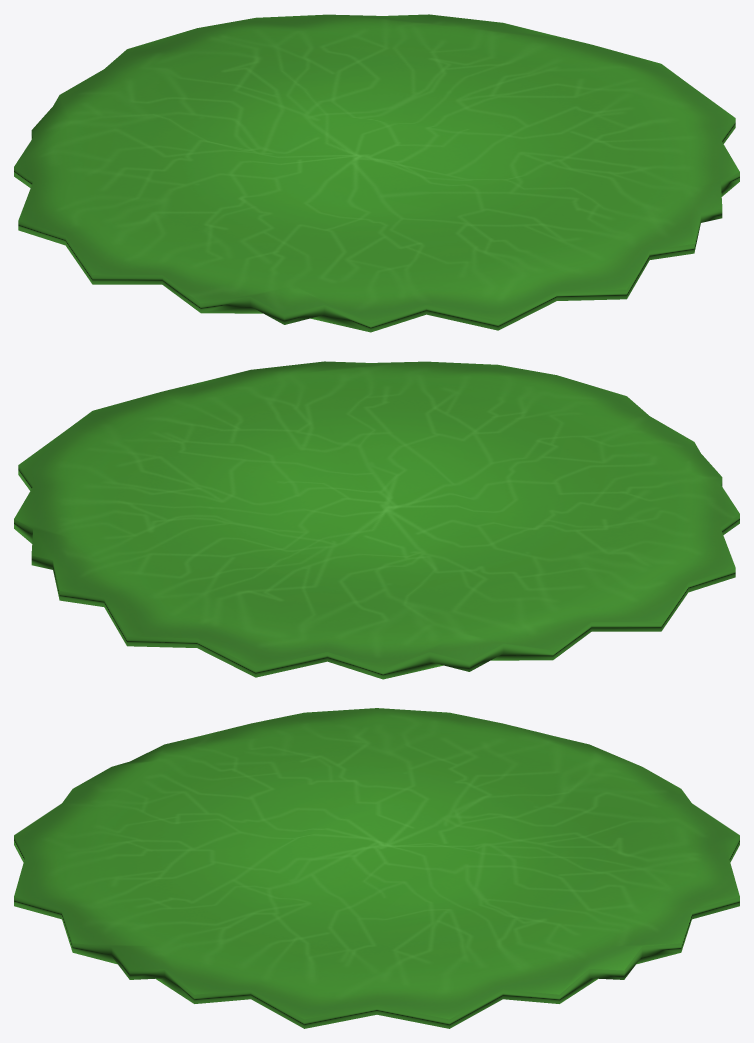
Rendered from lettuce.fbx.
3 renders of one model, top to bottom at view 1: azimuth 30°, elevation 25°; view 2: azimuth 150°, elevation 25°; view 3: azimuth 270°, elevation 25°, orthographic. The views are drawn at different scales.
Visible parts, largest first — view 1: lettuce; view 2: lettuce; view 3: lettuce.
Part boxes in pixels (x1,y1,x2,y2): lettuce: (14,14,739,332); lettuce: (14,361,739,679); lettuce: (14,708,739,1028).
Size of the model in its own units: 11.5 by 0.4243 by 11.5.
